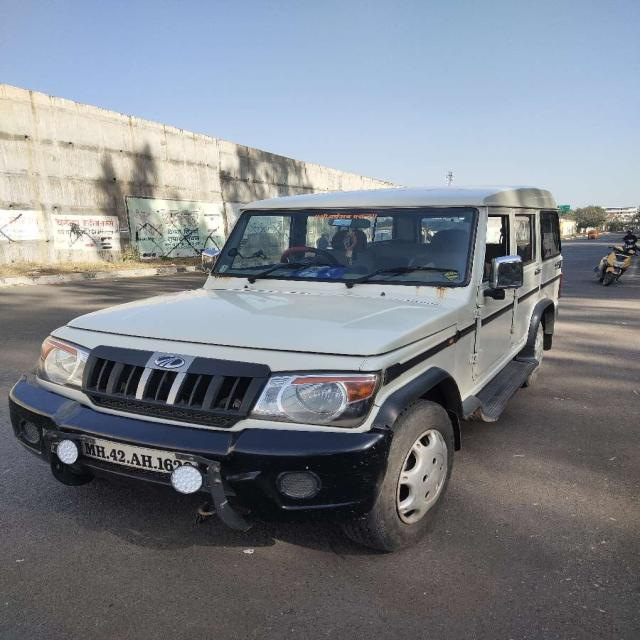light_vehicle: (7, 190, 573, 488)
